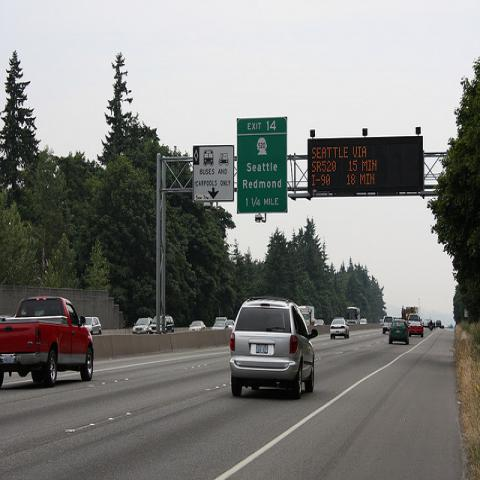bus: (345, 306, 361, 326)
car: (0, 293, 441, 387), (230, 296, 319, 398), (388, 318, 410, 345), (147, 314, 174, 334), (330, 317, 350, 341), (132, 318, 152, 334), (84, 316, 102, 333), (211, 318, 230, 330), (409, 322, 423, 337), (188, 320, 206, 330), (225, 320, 235, 331), (315, 320, 326, 325), (360, 318, 368, 324)
truck: (0, 295, 95, 389), (407, 313, 424, 338), (298, 306, 314, 326), (382, 316, 394, 334)
